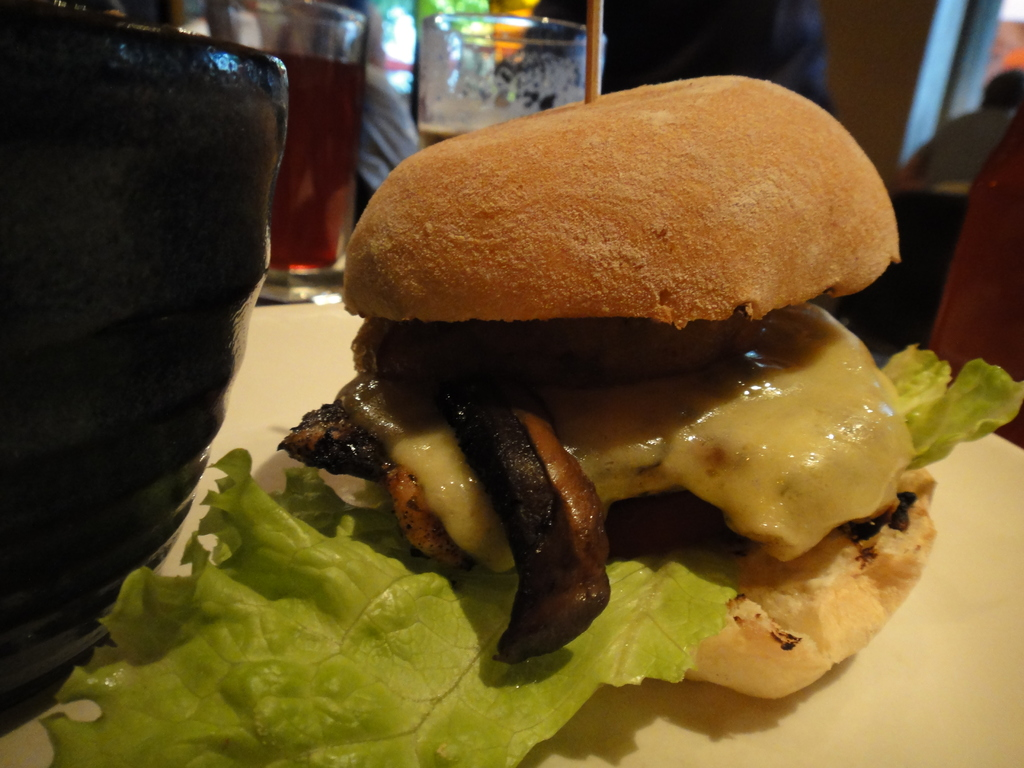Hamburger: (44, 74, 1023, 767)
